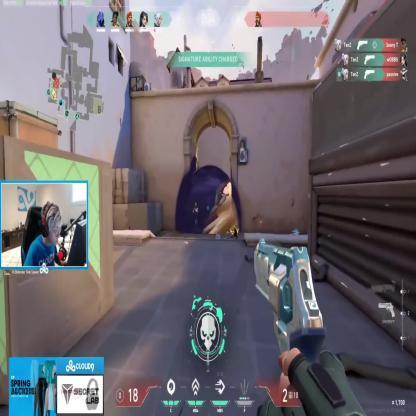enemy: (192, 202, 198, 227)
enemy_head: (195, 203, 197, 207)
